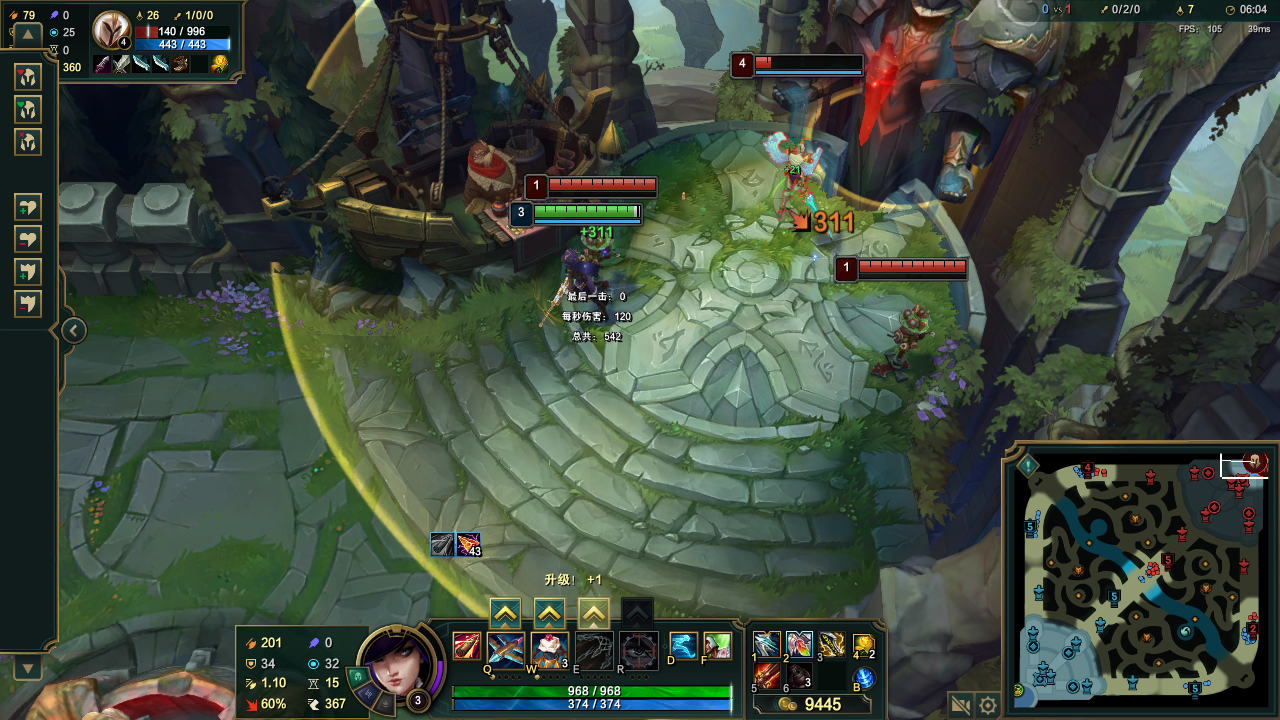DFYX: (547, 174, 660, 192), (753, 53, 861, 68), (860, 261, 970, 273)
